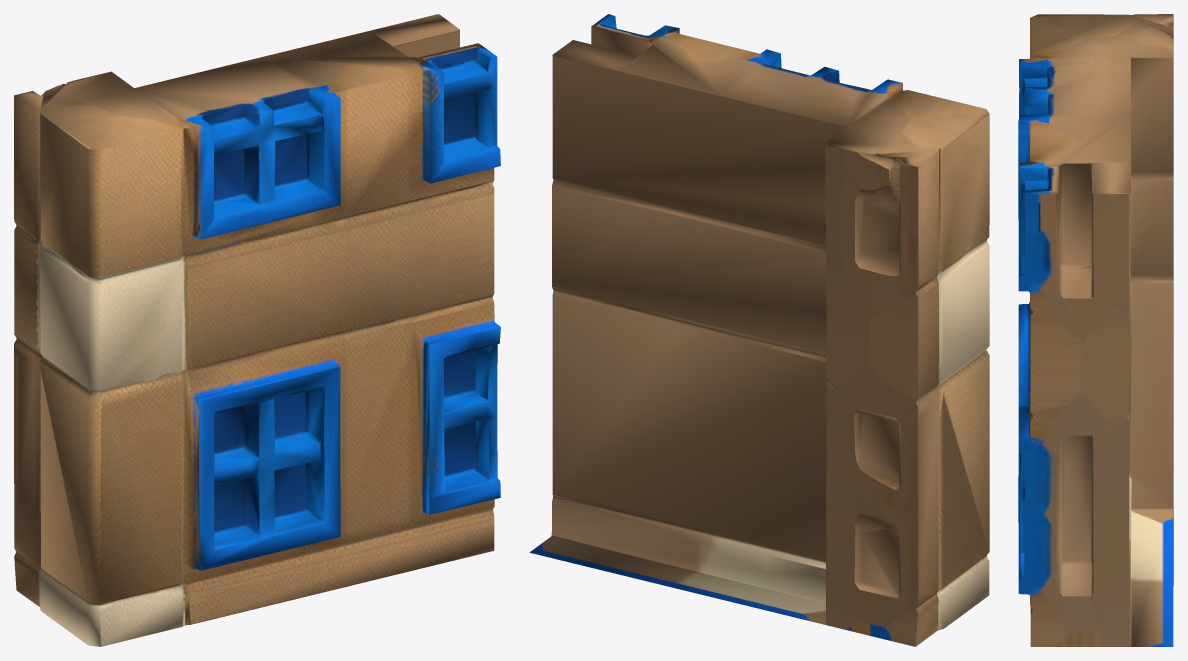
File: 5-upper-walls-front-left.fbx
3 renders of one model, left to right at view 1: azimuth 30°, elevation 25°; view 2: azimuth 150°, elevation 25°; view 3: azimuth 270°, elevation 25°, orthographic. The views are drawn at different scales.
Visible parts, largest first — view 1: upper-walls-front-left; view 2: upper-walls-front-left; view 3: upper-walls-front-left.
Boxes of the visible parts, <box> form: upper-walls-front-left: <box>14,14,500,646</box>; upper-walls-front-left: <box>529,14,989,646</box>; upper-walls-front-left: <box>1018,14,1173,646</box>.
Bounding box in the file's own units: 5044 × 5951 × 1847.
Materials: 1 (1 with a texture image).
